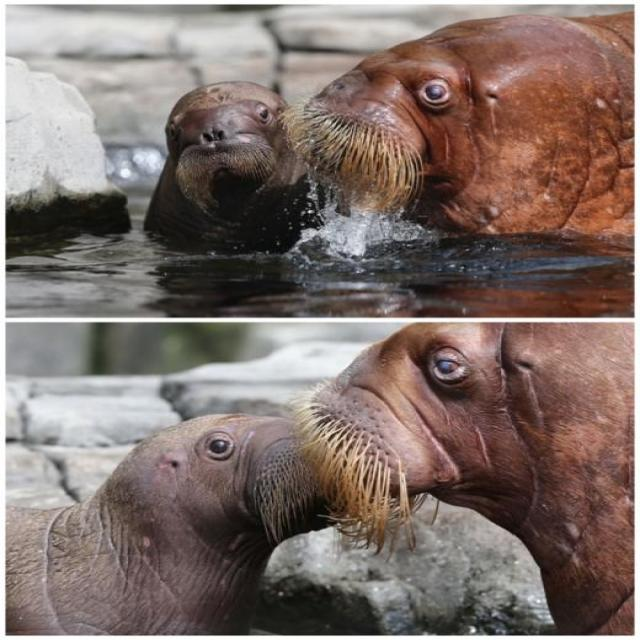walrus: (297, 324, 639, 630), (281, 36, 640, 253), (22, 390, 348, 624), (112, 73, 336, 251)
